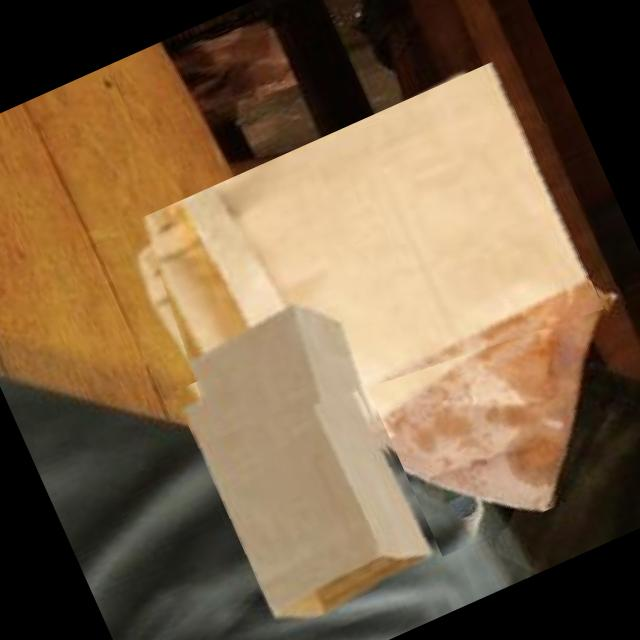PaperCardboard: (151, 63, 591, 387), (181, 342, 437, 615), (380, 287, 603, 512)
